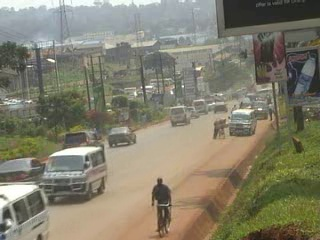Car: (0, 155, 47, 193), (61, 128, 105, 156), (107, 124, 137, 149), (184, 104, 198, 120), (213, 100, 228, 113)
